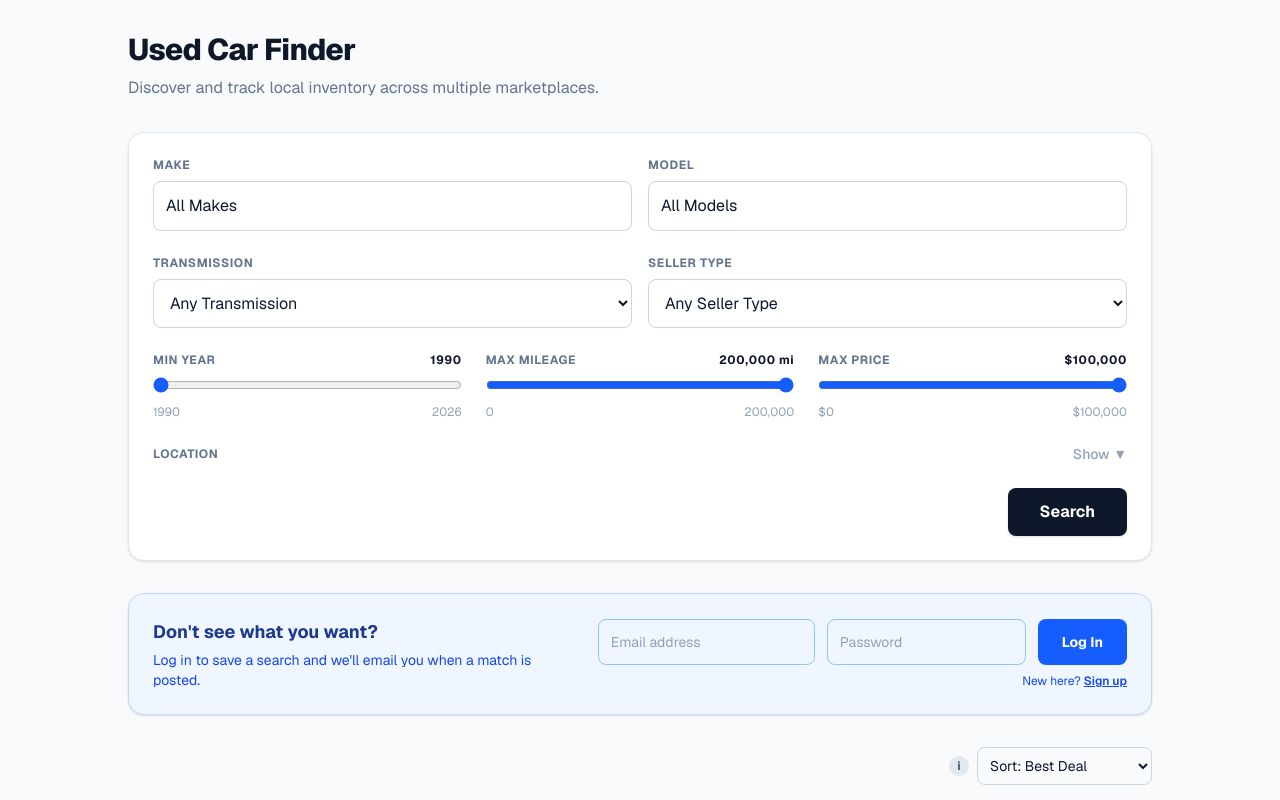
search filters › clicking clear filters resets the make selection back to 'All Makes'
Click the button "All Makes".
click(202, 206)  # box [153,181,632,231]
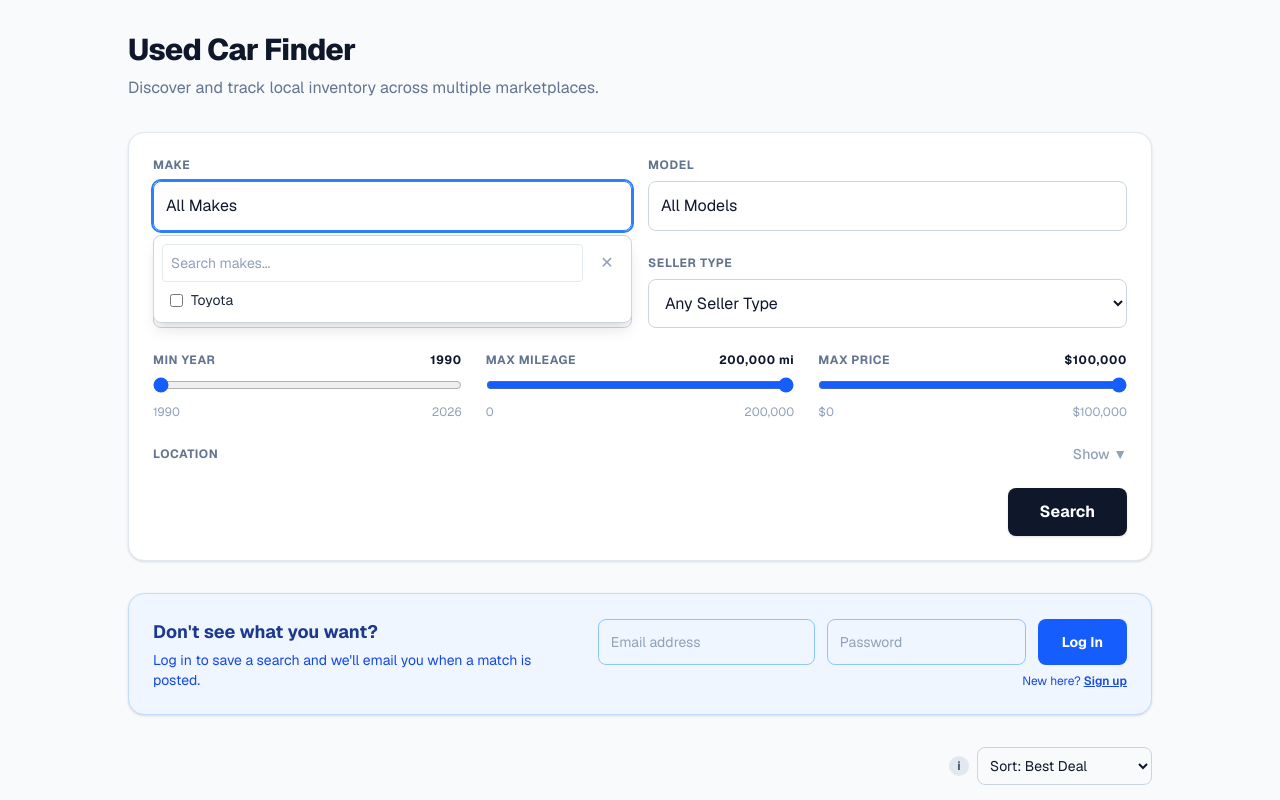
Click the checkbox labelled "Toyota".
click(176, 300)  # box [170,294,183,306]
(page scrolled)
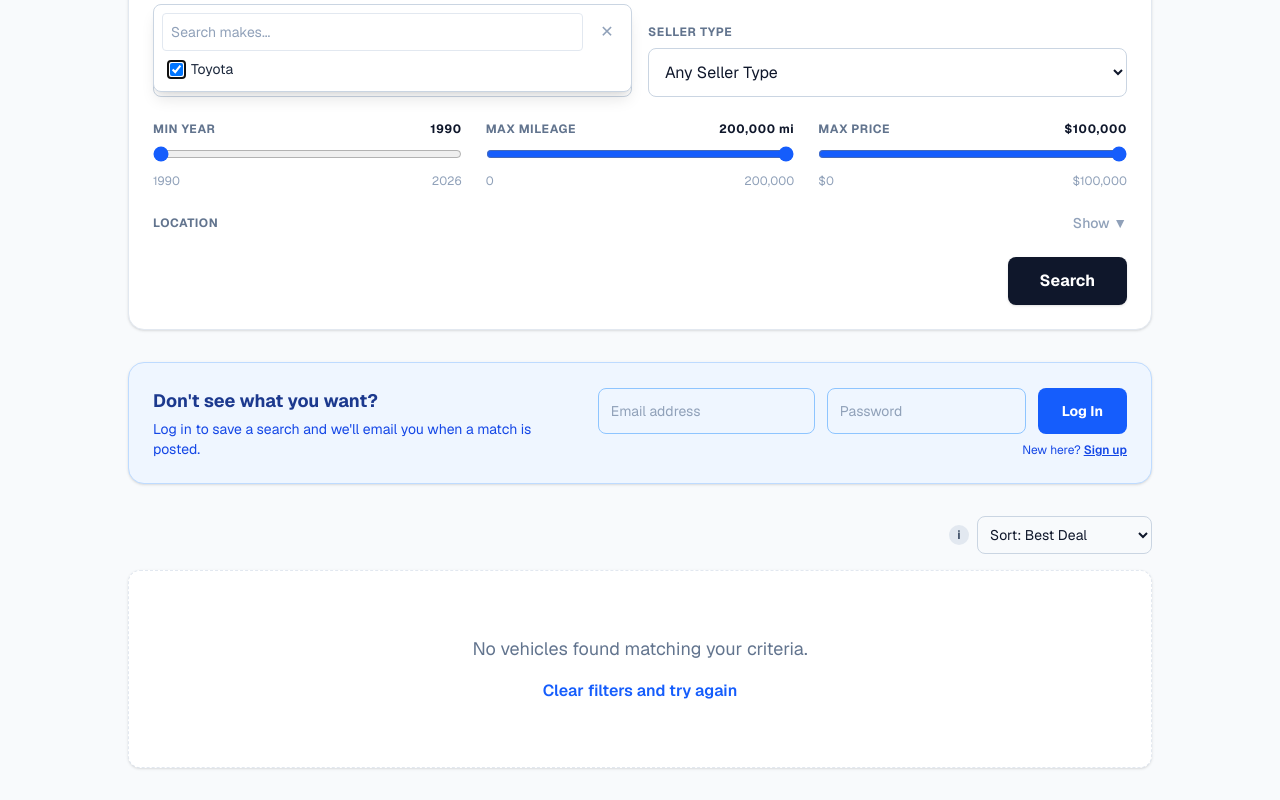
Click the button "Clear filters and try again".
click(640, 691)  # box [543,679,737,703]
(page scrolled)
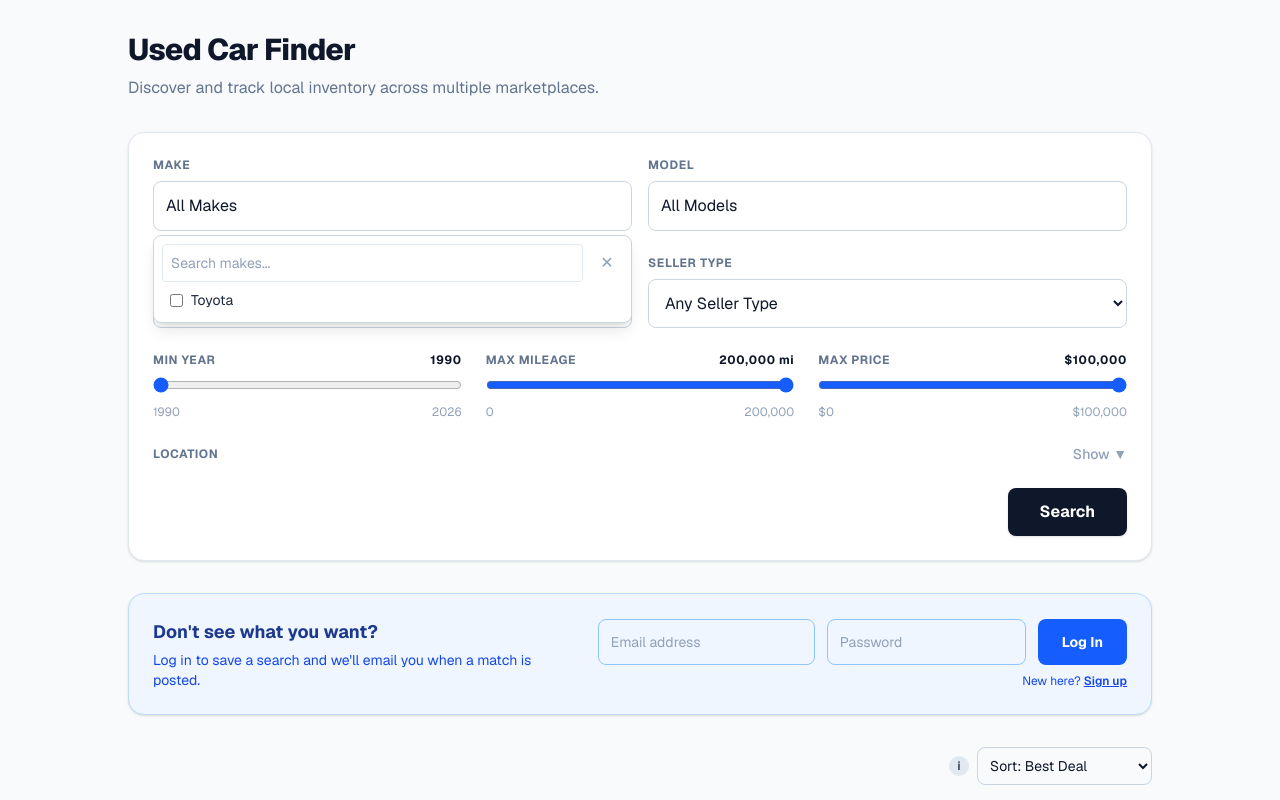
Expected: the button labelled "All Makes" is shown, [153,181,632,231]
